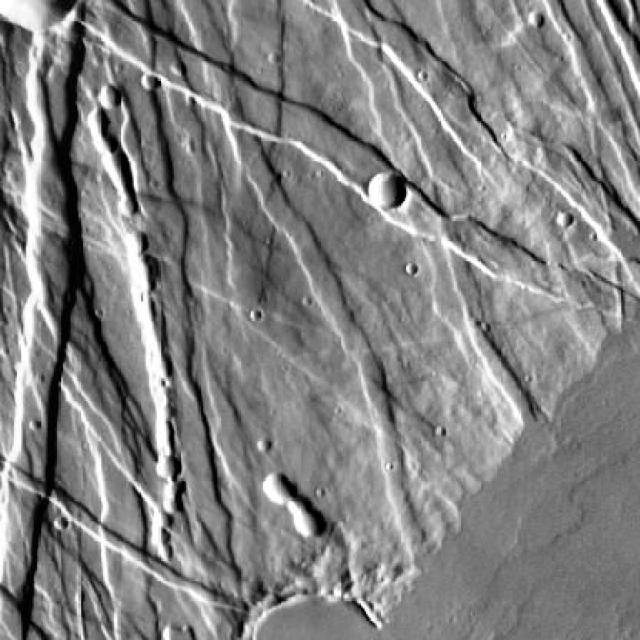crater: (370, 172, 402, 203), (149, 454, 177, 480), (137, 72, 157, 92), (556, 213, 575, 230), (52, 517, 68, 532)
